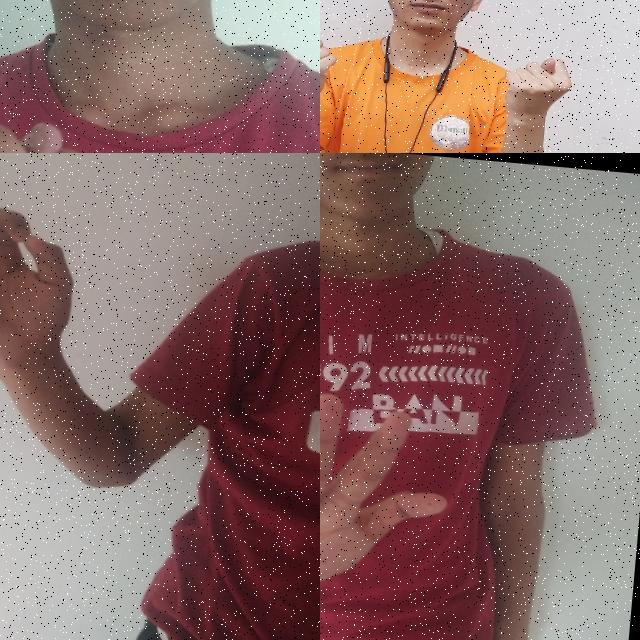Dulya: (0, 104, 219, 153), (490, 44, 580, 134), (320, 14, 345, 103)
Moutza: (320, 378, 457, 617)
Okay: (0, 153, 93, 396)
